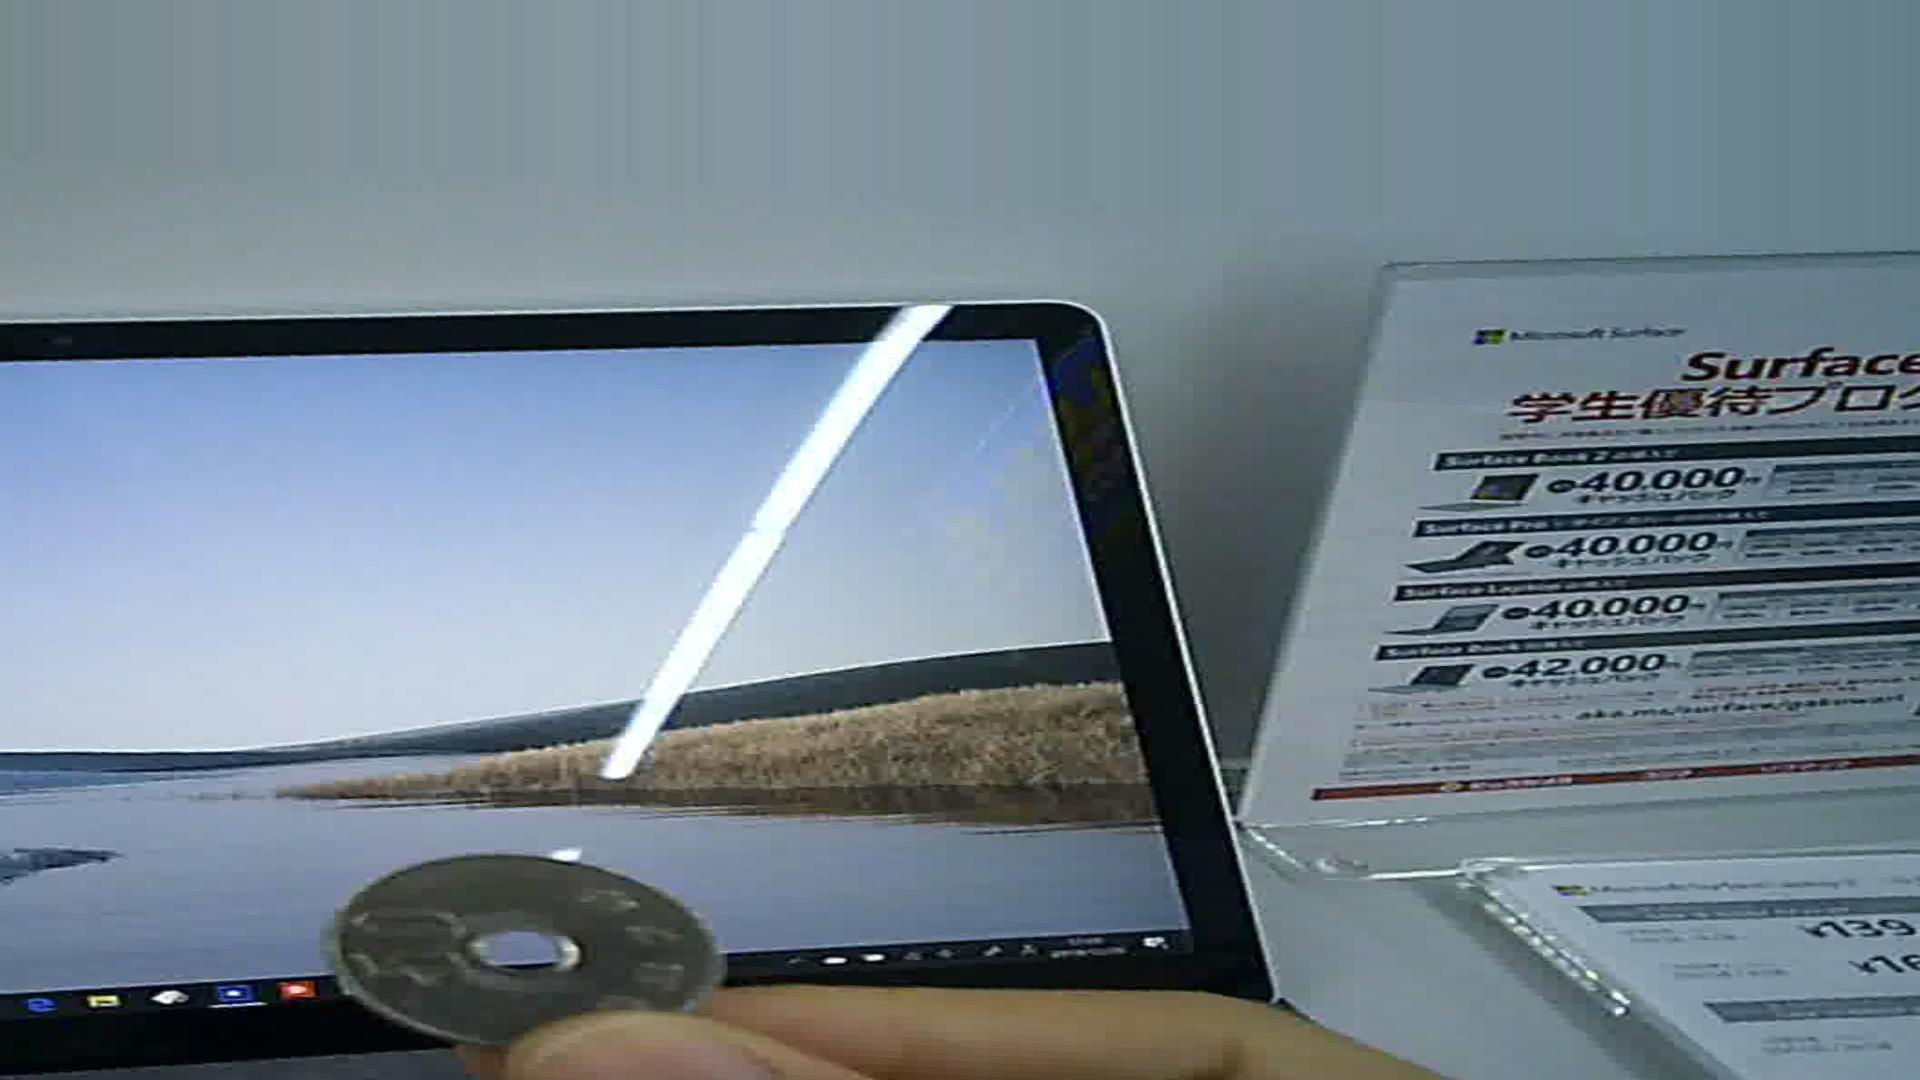50 Yen: (307, 860, 724, 1043)
